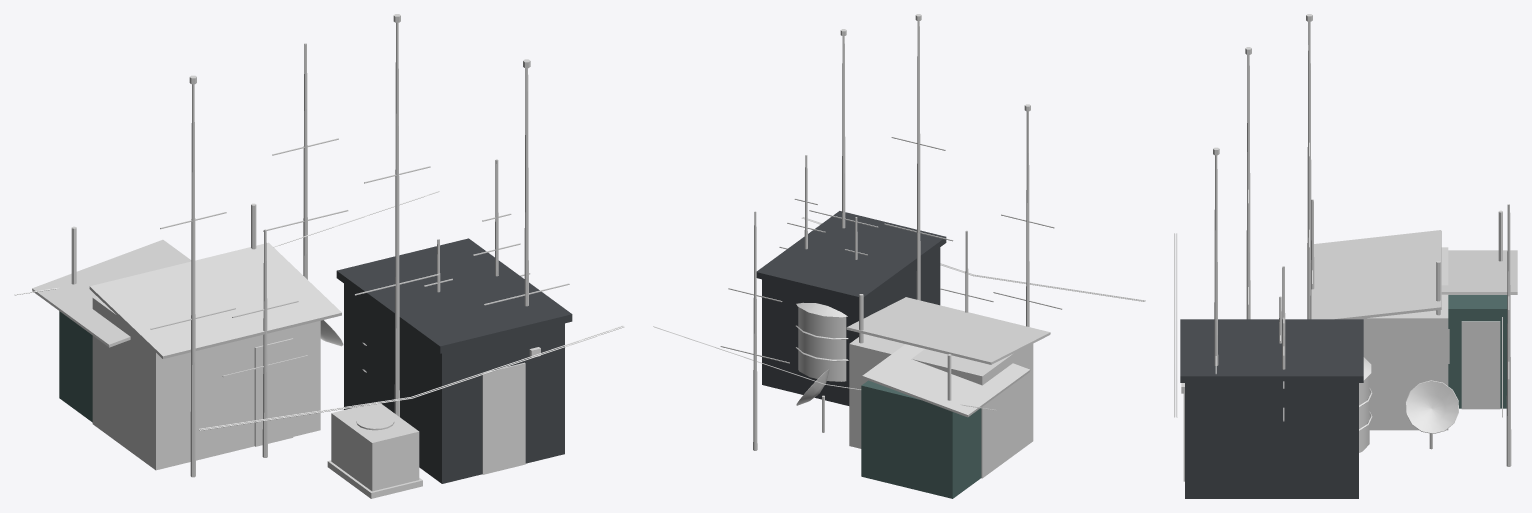
File: LMM_Roof_KS_Shanties_A.fbx
3 renders of one model, left to right at view 1: azimuth 30°, elevation 25°; view 2: azimuth 150°, elevation 25°; view 3: azimuth 270°, elevation 25°, orthographic. The views are drawn at different scales.
Visible parts, largest first — view 1: LMM_Roof_KS_Shanties_A_LOD0; view 2: LMM_Roof_KS_Shanties_A_LOD0; view 3: LMM_Roof_KS_Shanties_A_LOD0.
Part boxes in pixels (x1,y1,x2,y2): LMM_Roof_KS_Shanties_A_LOD0: [14, 14, 624, 498]; LMM_Roof_KS_Shanties_A_LOD0: [653, 14, 1145, 498]; LMM_Roof_KS_Shanties_A_LOD0: [1174, 14, 1517, 498].
Size of what is drawn, in the model's own units: 9 by 9 by 7.12.
